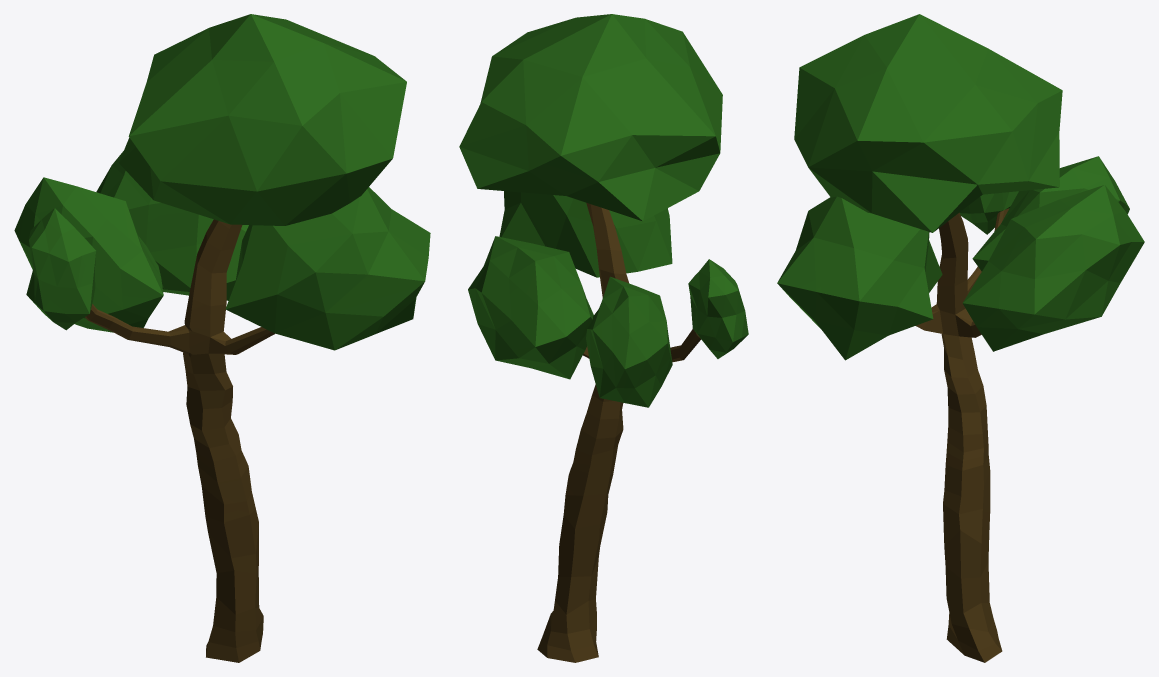
Rendered from bigtree4.fbx.
3 views of the same model, side by side, from view 1: azimuth 30°, elevation 25°; view 2: azimuth 150°, elevation 25°; view 3: azimuth 270°, elevation 25° (orthographic). The views are drawn at different scales.
Visible parts, largest first — view 1: Icosphere.001; view 2: Icosphere.001; view 3: Icosphere.001.
Boxes of the visible parts, box(x1,y1,x2,y2) form: Icosphere.001: box(14, 14, 430, 662); Icosphere.001: box(459, 14, 748, 662); Icosphere.001: box(777, 14, 1144, 662).
Size of the model in its own units: 731 by 1426 by 757.
